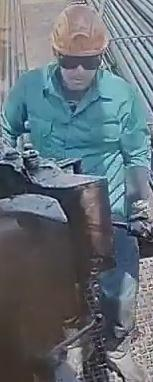gloves: (126, 194, 152, 242)
goggles: (56, 52, 103, 70)
helmet: (50, 4, 109, 56)
vest: (24, 61, 150, 222)
